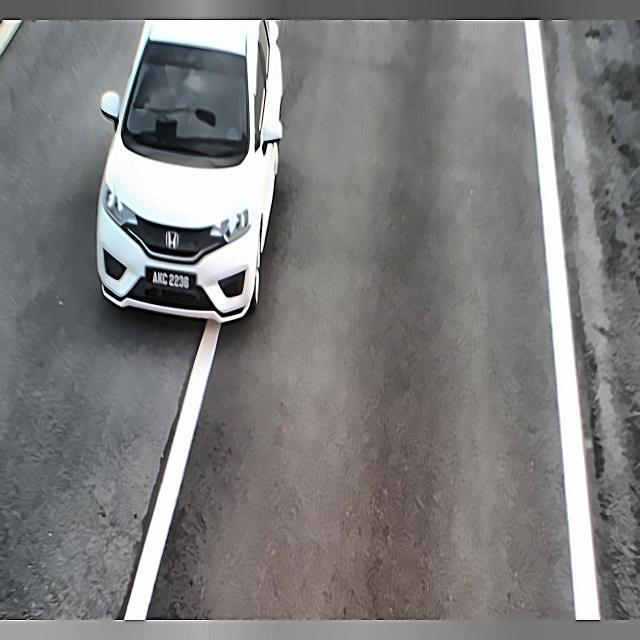car: (146, 265, 194, 300)
